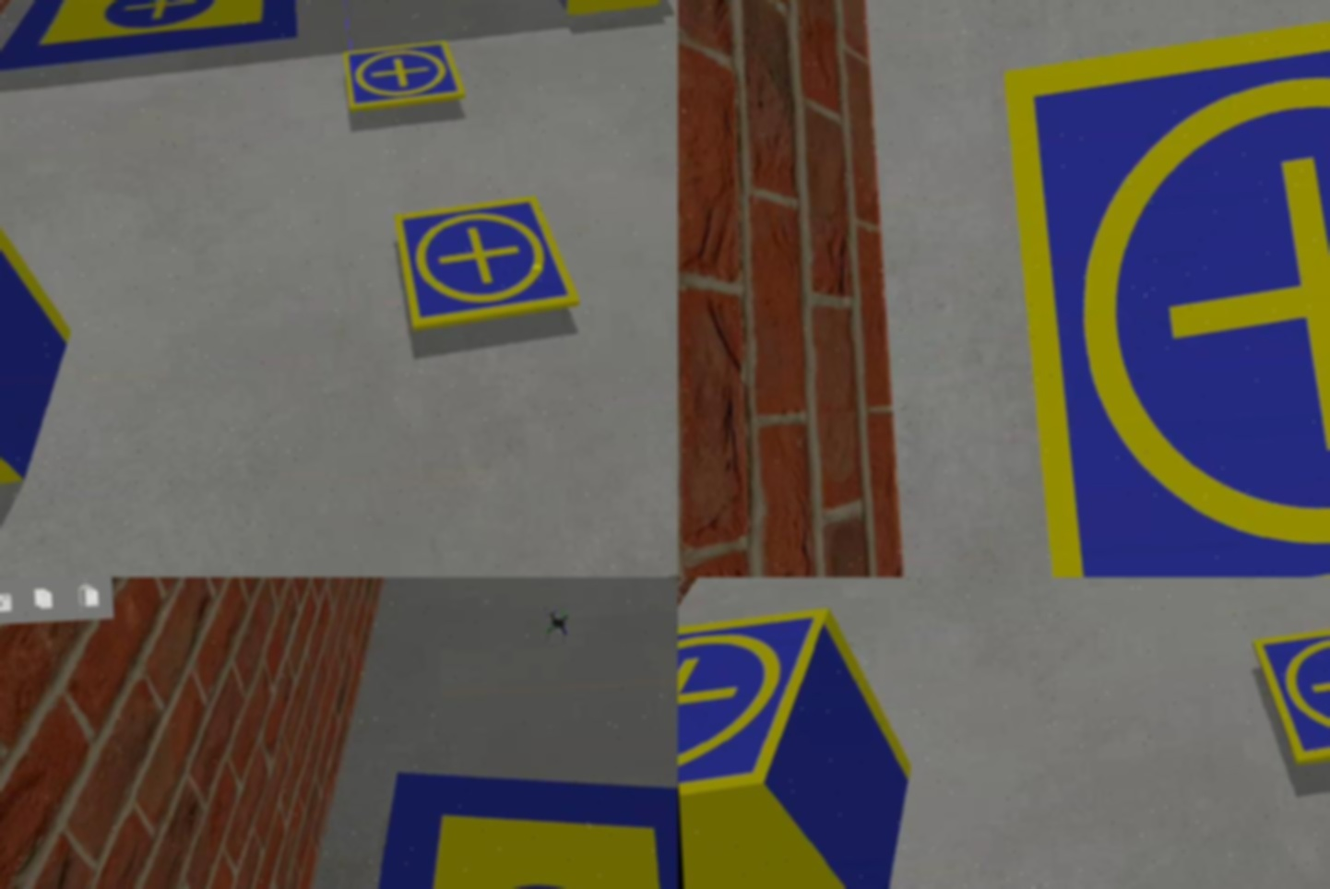large_base: (299, 751, 678, 889), (1, 1, 307, 71)
small_base: (1000, 1, 1330, 578), (678, 601, 838, 790), (398, 195, 583, 341), (1253, 616, 1330, 765), (344, 39, 469, 111)
